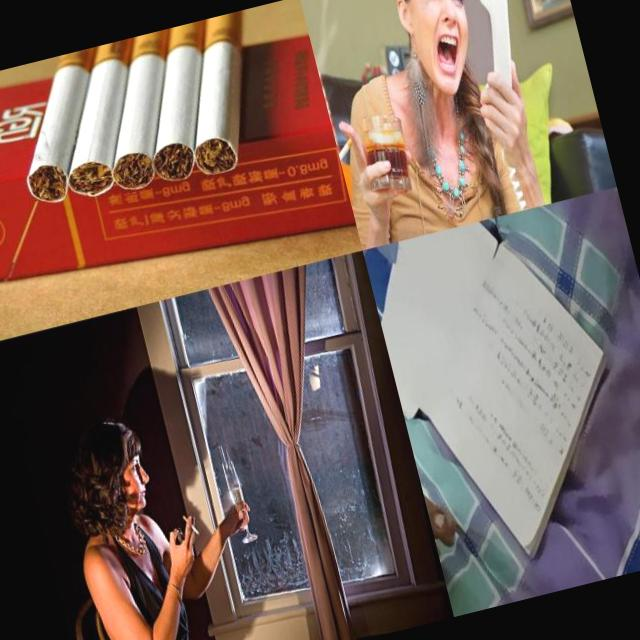cigarette: (36, 37, 168, 203), (0, 46, 130, 209), (80, 28, 204, 195), (161, 10, 280, 178), (121, 20, 240, 186), (333, 131, 362, 173), (181, 512, 201, 540)
